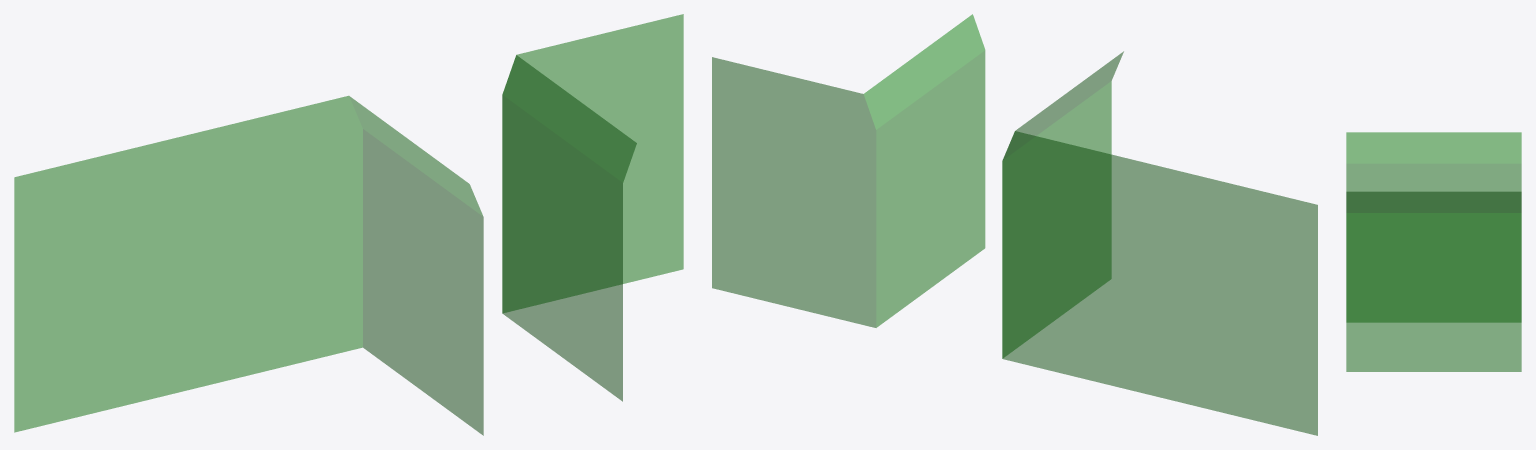
Rendered from D05_wall01.obj.
3 renders of one model, left to right at view 1: azimuth 30°, elevation 25°; view 2: azimuth 150°, elevation 25°; view 3: azimuth 270°, elevation 25°, orthographic. The views are drawn at different scales.
Bounding box in the file's own units: 96 × 35 × 30.
